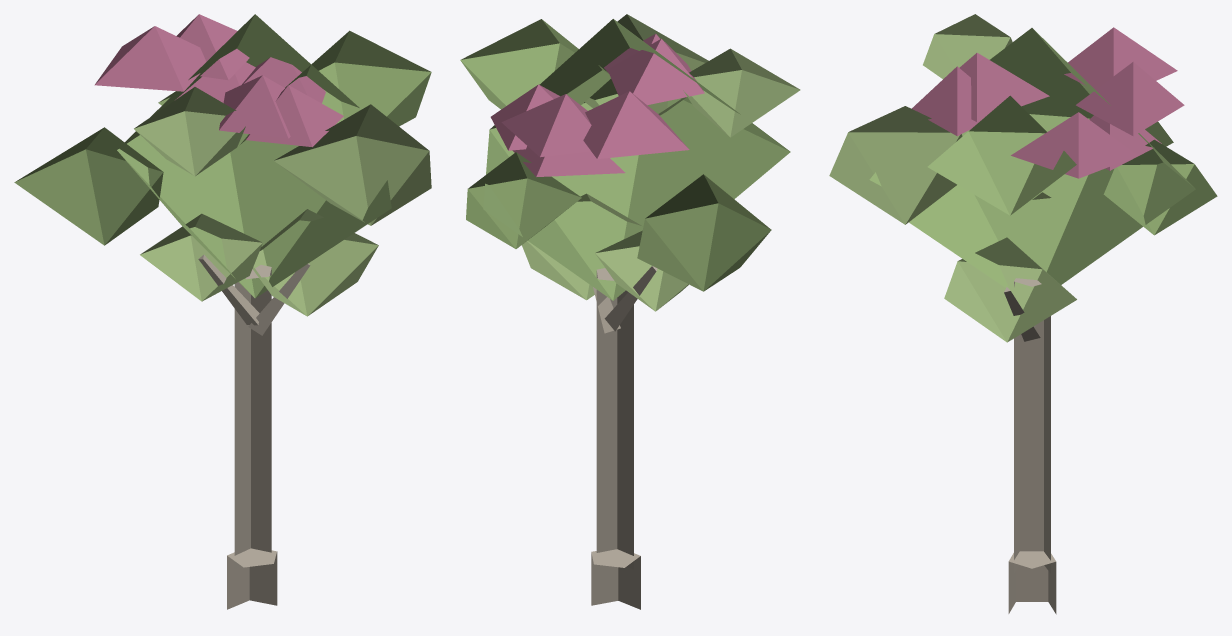
File: tree.cold.birch__bloom.glb
The picture shows the model from 3 angles, left to right: view 1: azimuth 30°, elevation 25°; view 2: azimuth 150°, elevation 25°; view 3: azimuth 270°, elevation 25°; orthographic projection. The views are drawn at different scales.
Parts seen in each view (by area): view 1: tree.cold.birch__bloom; view 2: tree.cold.birch__bloom; view 3: tree.cold.birch__bloom.
Boxes of the visible parts, x1,y1,x2,y2 form: tree.cold.birch__bloom: (14,14,431,609); tree.cold.birch__bloom: (460,14,800,609); tree.cold.birch__bloom: (829,14,1217,614).
Size of the model in its own units: 6.03 by 9.83 by 5.93.
